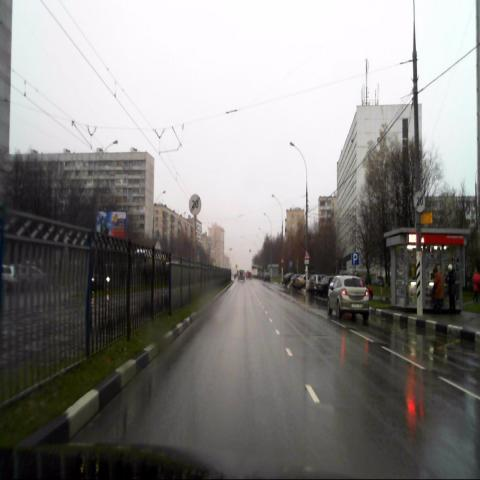3_25: (190, 194, 202, 215), (414, 191, 424, 212)
